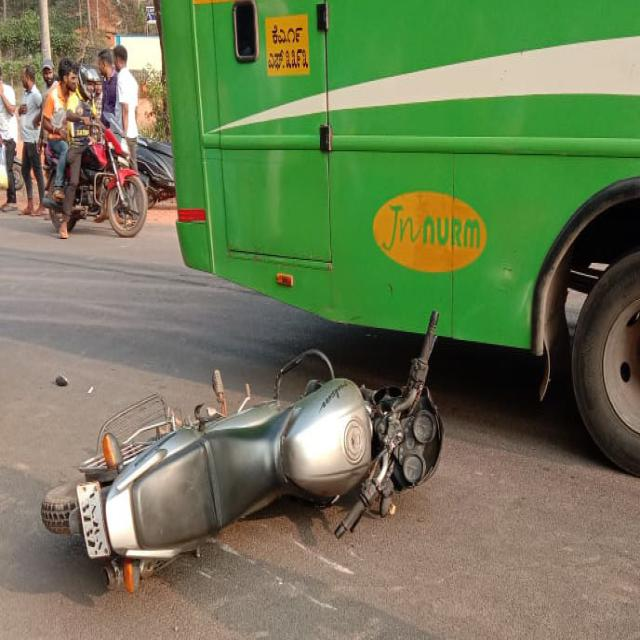accident: (41, 313, 444, 590)
bus: (161, 0, 640, 470)
motorcycle: (42, 66, 148, 237)
